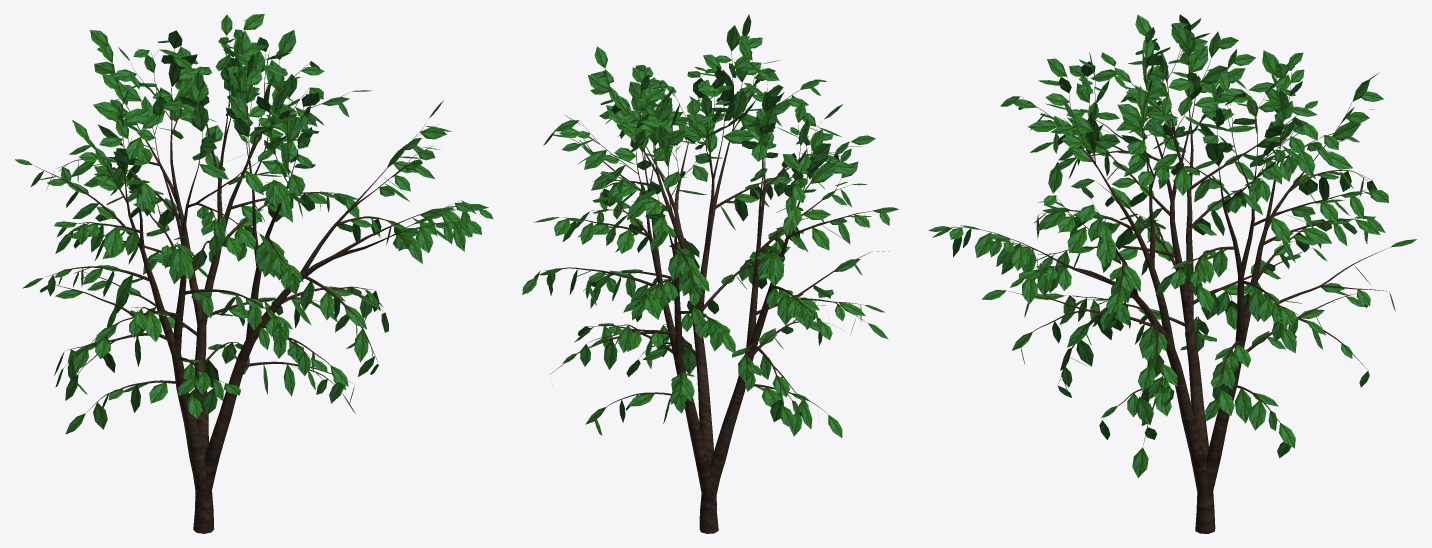
File: Amazonie_Tree_1.fbx
3 renders of one model, left to right at view 1: azimuth 30°, elevation 25°; view 2: azimuth 150°, elevation 25°; view 3: azimuth 270°, elevation 25°, orthographic. The views are drawn at different scales.
Visible parts, largest first — view 1: leaves, tree; view 2: leaves, tree; view 3: leaves, tree.
Boxes of the visible parts, box(x1,y1,x2,y2) form: leaves: box(15, 14, 493, 434); tree: box(33, 27, 461, 533); leaves: box(522, 14, 898, 437); tree: box(538, 46, 877, 533); leaves: box(928, 14, 1417, 477); tree: box(954, 32, 1387, 533).
Bounding box in the file's own units: 1337 × 1668 × 1499.
